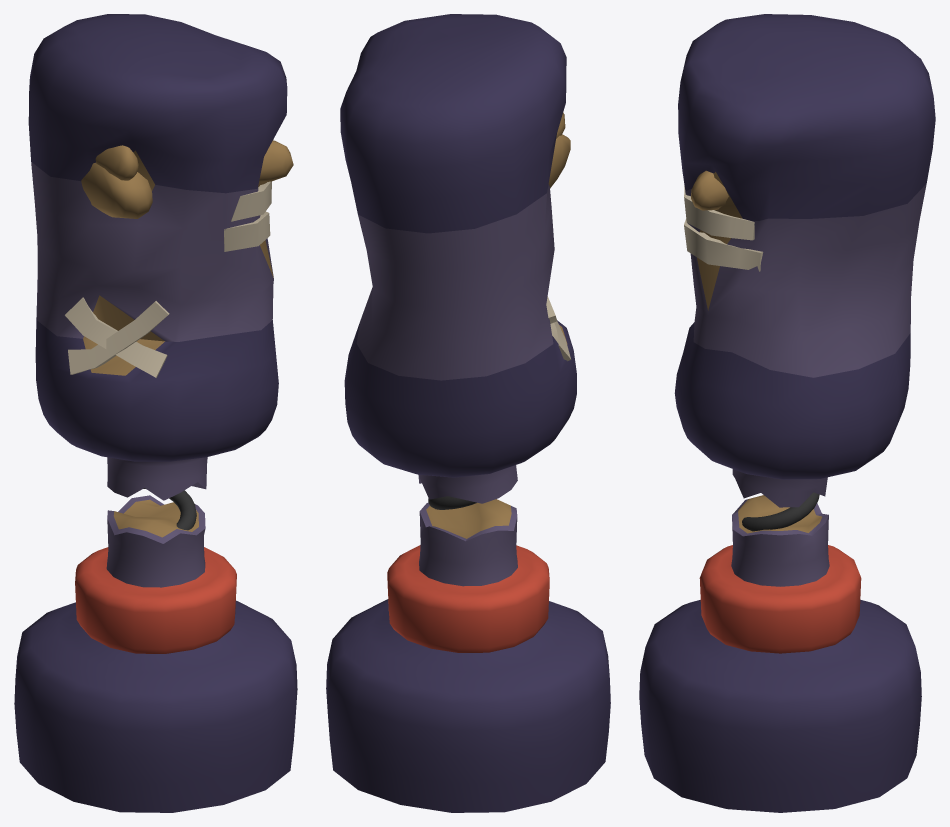
File: boxing_mannequin-4.fbx
The picture shows the model from 3 angles, left to right: view 1: azimuth 30°, elevation 25°; view 2: azimuth 150°, elevation 25°; view 3: azimuth 270°, elevation 25°; orthographic projection.
Visible parts, largest first — view 1: boxing mannequin-4, Spiral.006; view 2: boxing mannequin-4; view 3: boxing mannequin-4, Spiral.006.
Boxes of the visible parts, x1,y1,x2,y2 form: boxing mannequin-4: [14, 14, 297, 812]; Spiral.006: [143, 488, 196, 530]; boxing mannequin-4: [326, 14, 610, 812]; boxing mannequin-4: [639, 14, 935, 812]; Spiral.006: [742, 492, 819, 531].
Bounding box in the file's own units: 0.3465 × 0.9658 × 0.3635.
